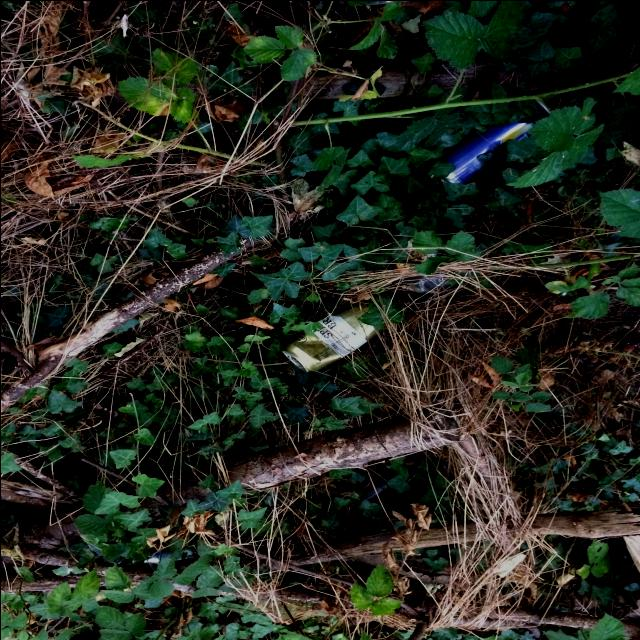Clear plastic bottle: (395, 263, 447, 293)
Drink can: (436, 100, 549, 185), (281, 299, 376, 371)
